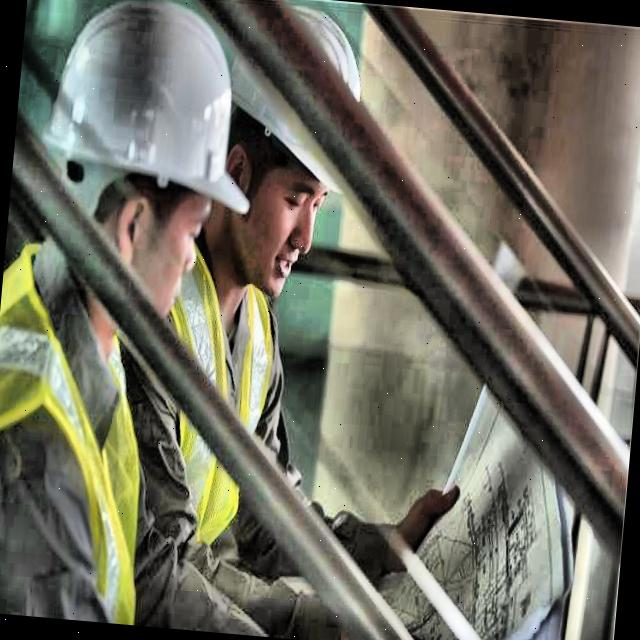helmet: (30, 0, 264, 337), (200, 4, 370, 297)
